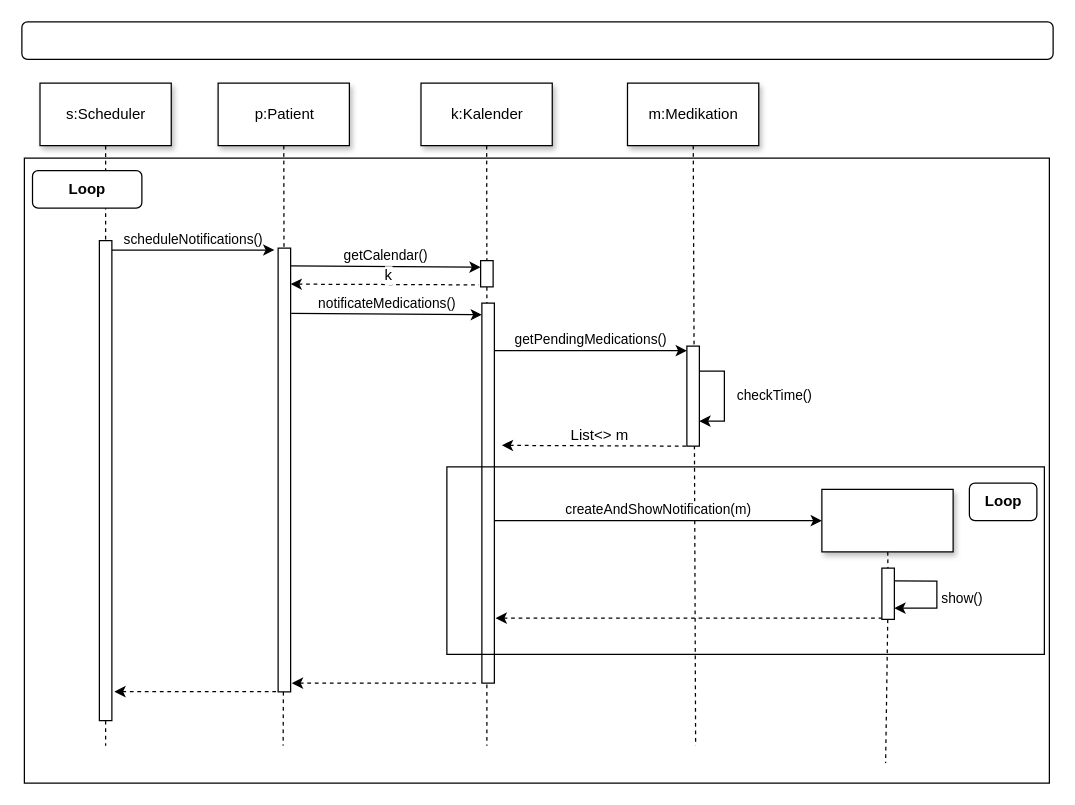
Some shapes in this 1075 by 805 pixel diagram are drawn without their labels. Here are the shapes that lost their labels. From the top down, the centre of each, then its label:
pixel 537 40: Medikations-Notifikationen
pixel 888 522: n:Notifikation
